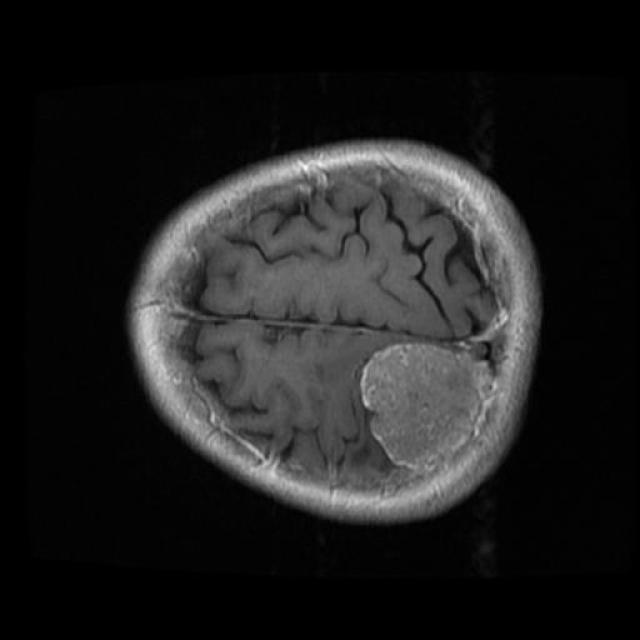Meningioma: (360, 344, 495, 477)
